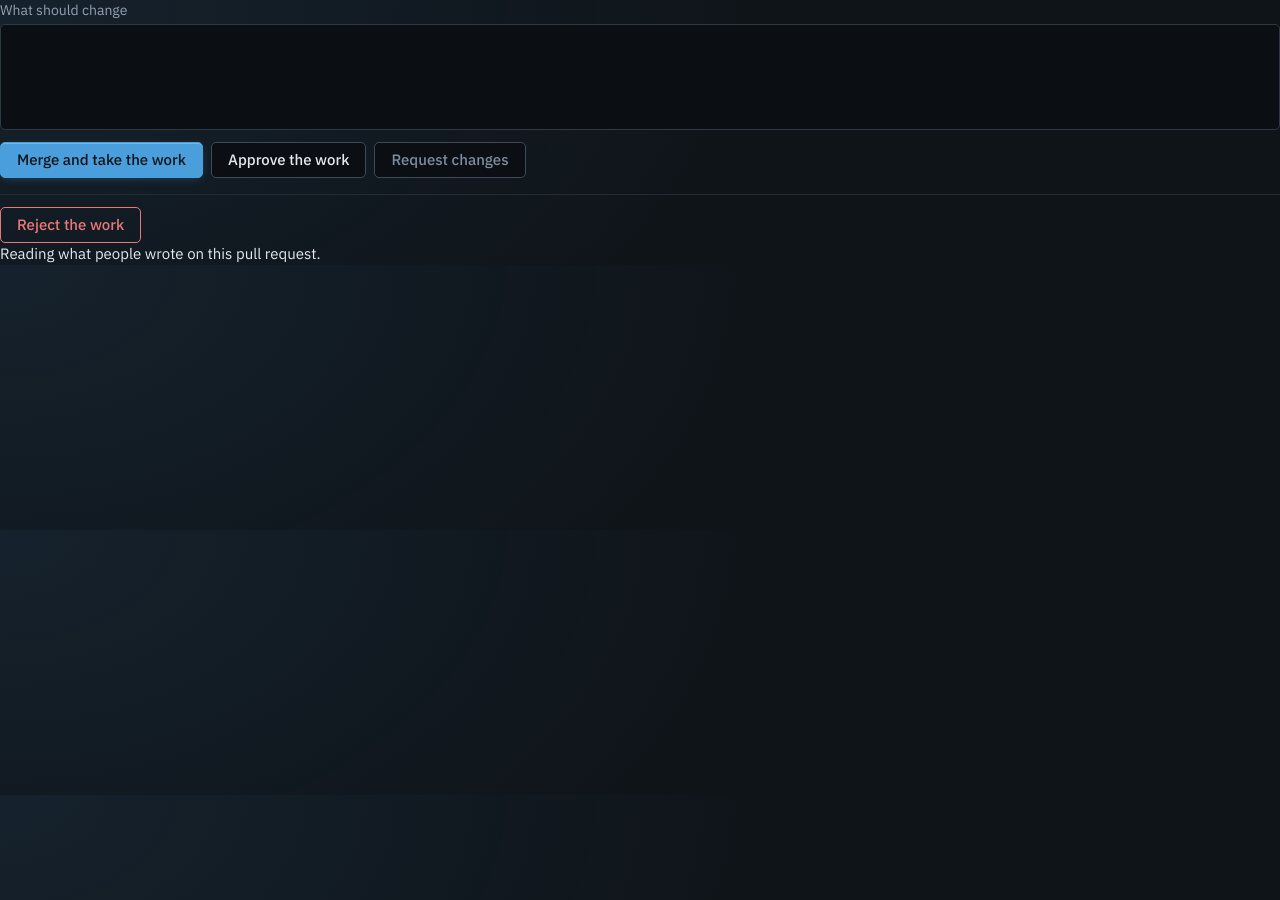
Test case: pressing merge asks rather than merging
This screenshot has width=1280, height=900.
What coordinates should you click on to do the following:
click the button "Merge and take the work"
I would click on:
 (102, 160)
Its box is [0, 142, 203, 178].
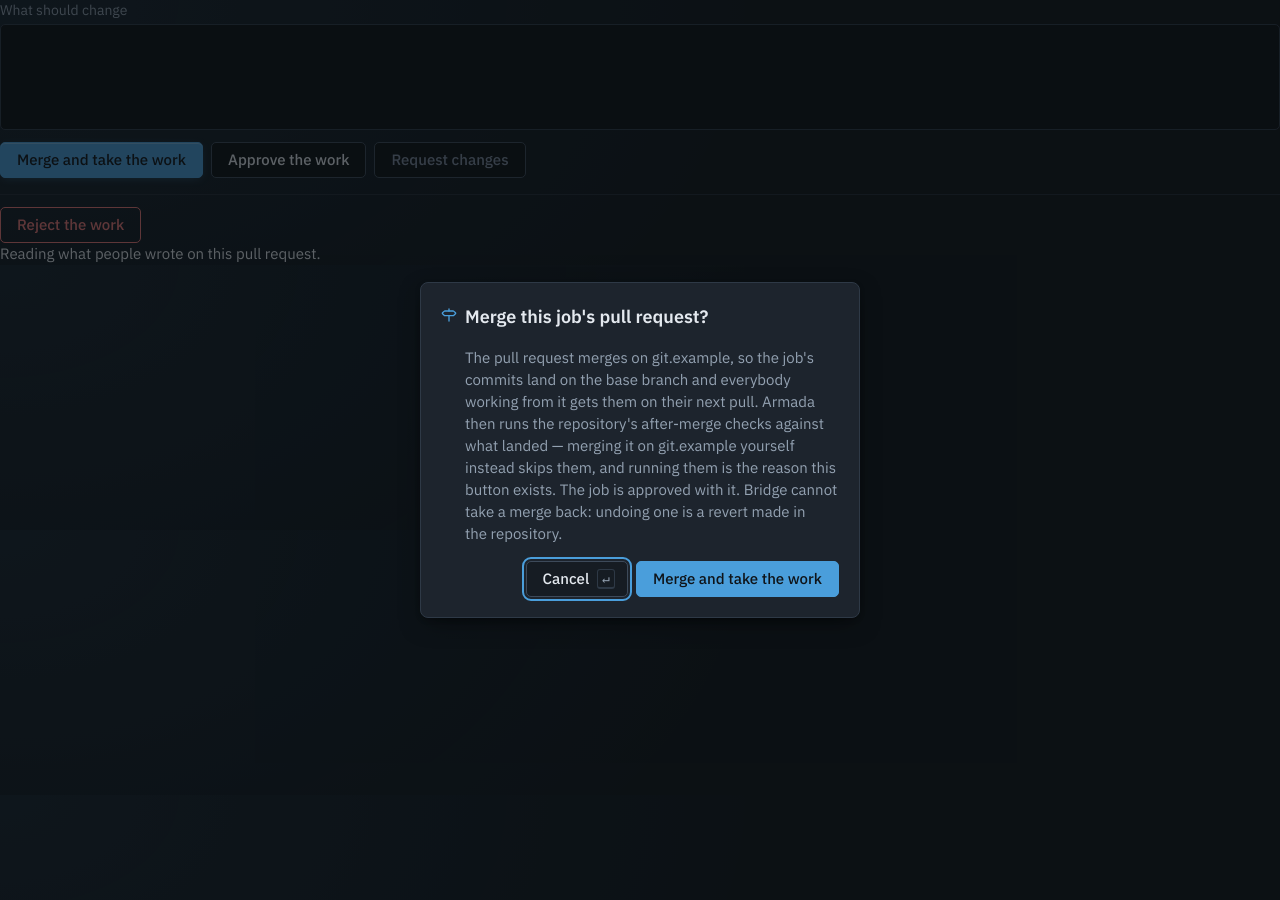
expect the dialog is shown: met, box [420, 282, 860, 618]
